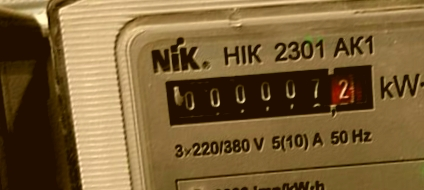0: (257, 79, 273, 103), (181, 87, 196, 112), (232, 82, 247, 106), (206, 86, 221, 109), (282, 77, 297, 100)
2: (335, 77, 350, 101)
7: (308, 75, 322, 100)
screen: (153, 54, 384, 135)
